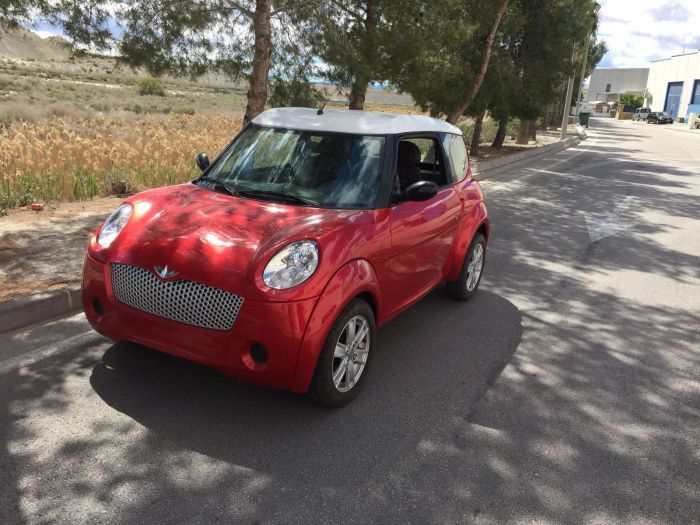car: (61, 96, 523, 417), (646, 108, 676, 130), (627, 105, 652, 126)
